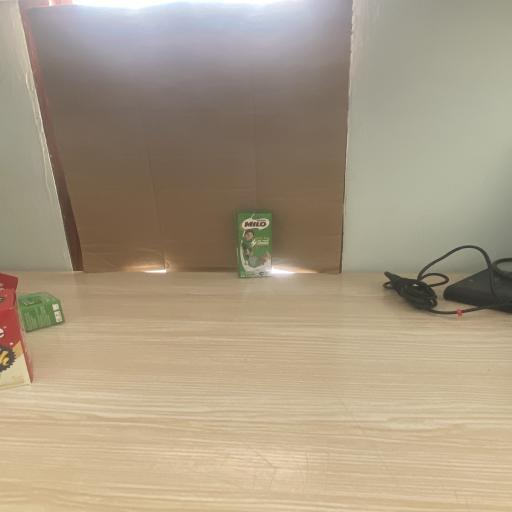milo: (237, 212, 272, 278)
